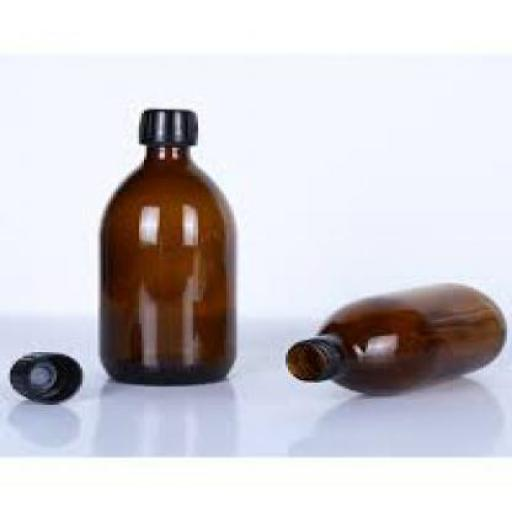glass: (92, 144, 234, 384), (283, 282, 507, 394)
plastic: (5, 350, 80, 403), (136, 108, 196, 143)
